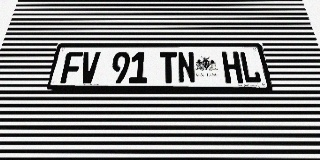1: (129, 51, 148, 83)
9: (111, 51, 131, 83)
F: (60, 52, 83, 83)
H: (221, 51, 244, 83)
L: (239, 51, 262, 83)
N: (177, 51, 196, 83)
T: (160, 51, 178, 83)
V: (79, 52, 101, 83)
